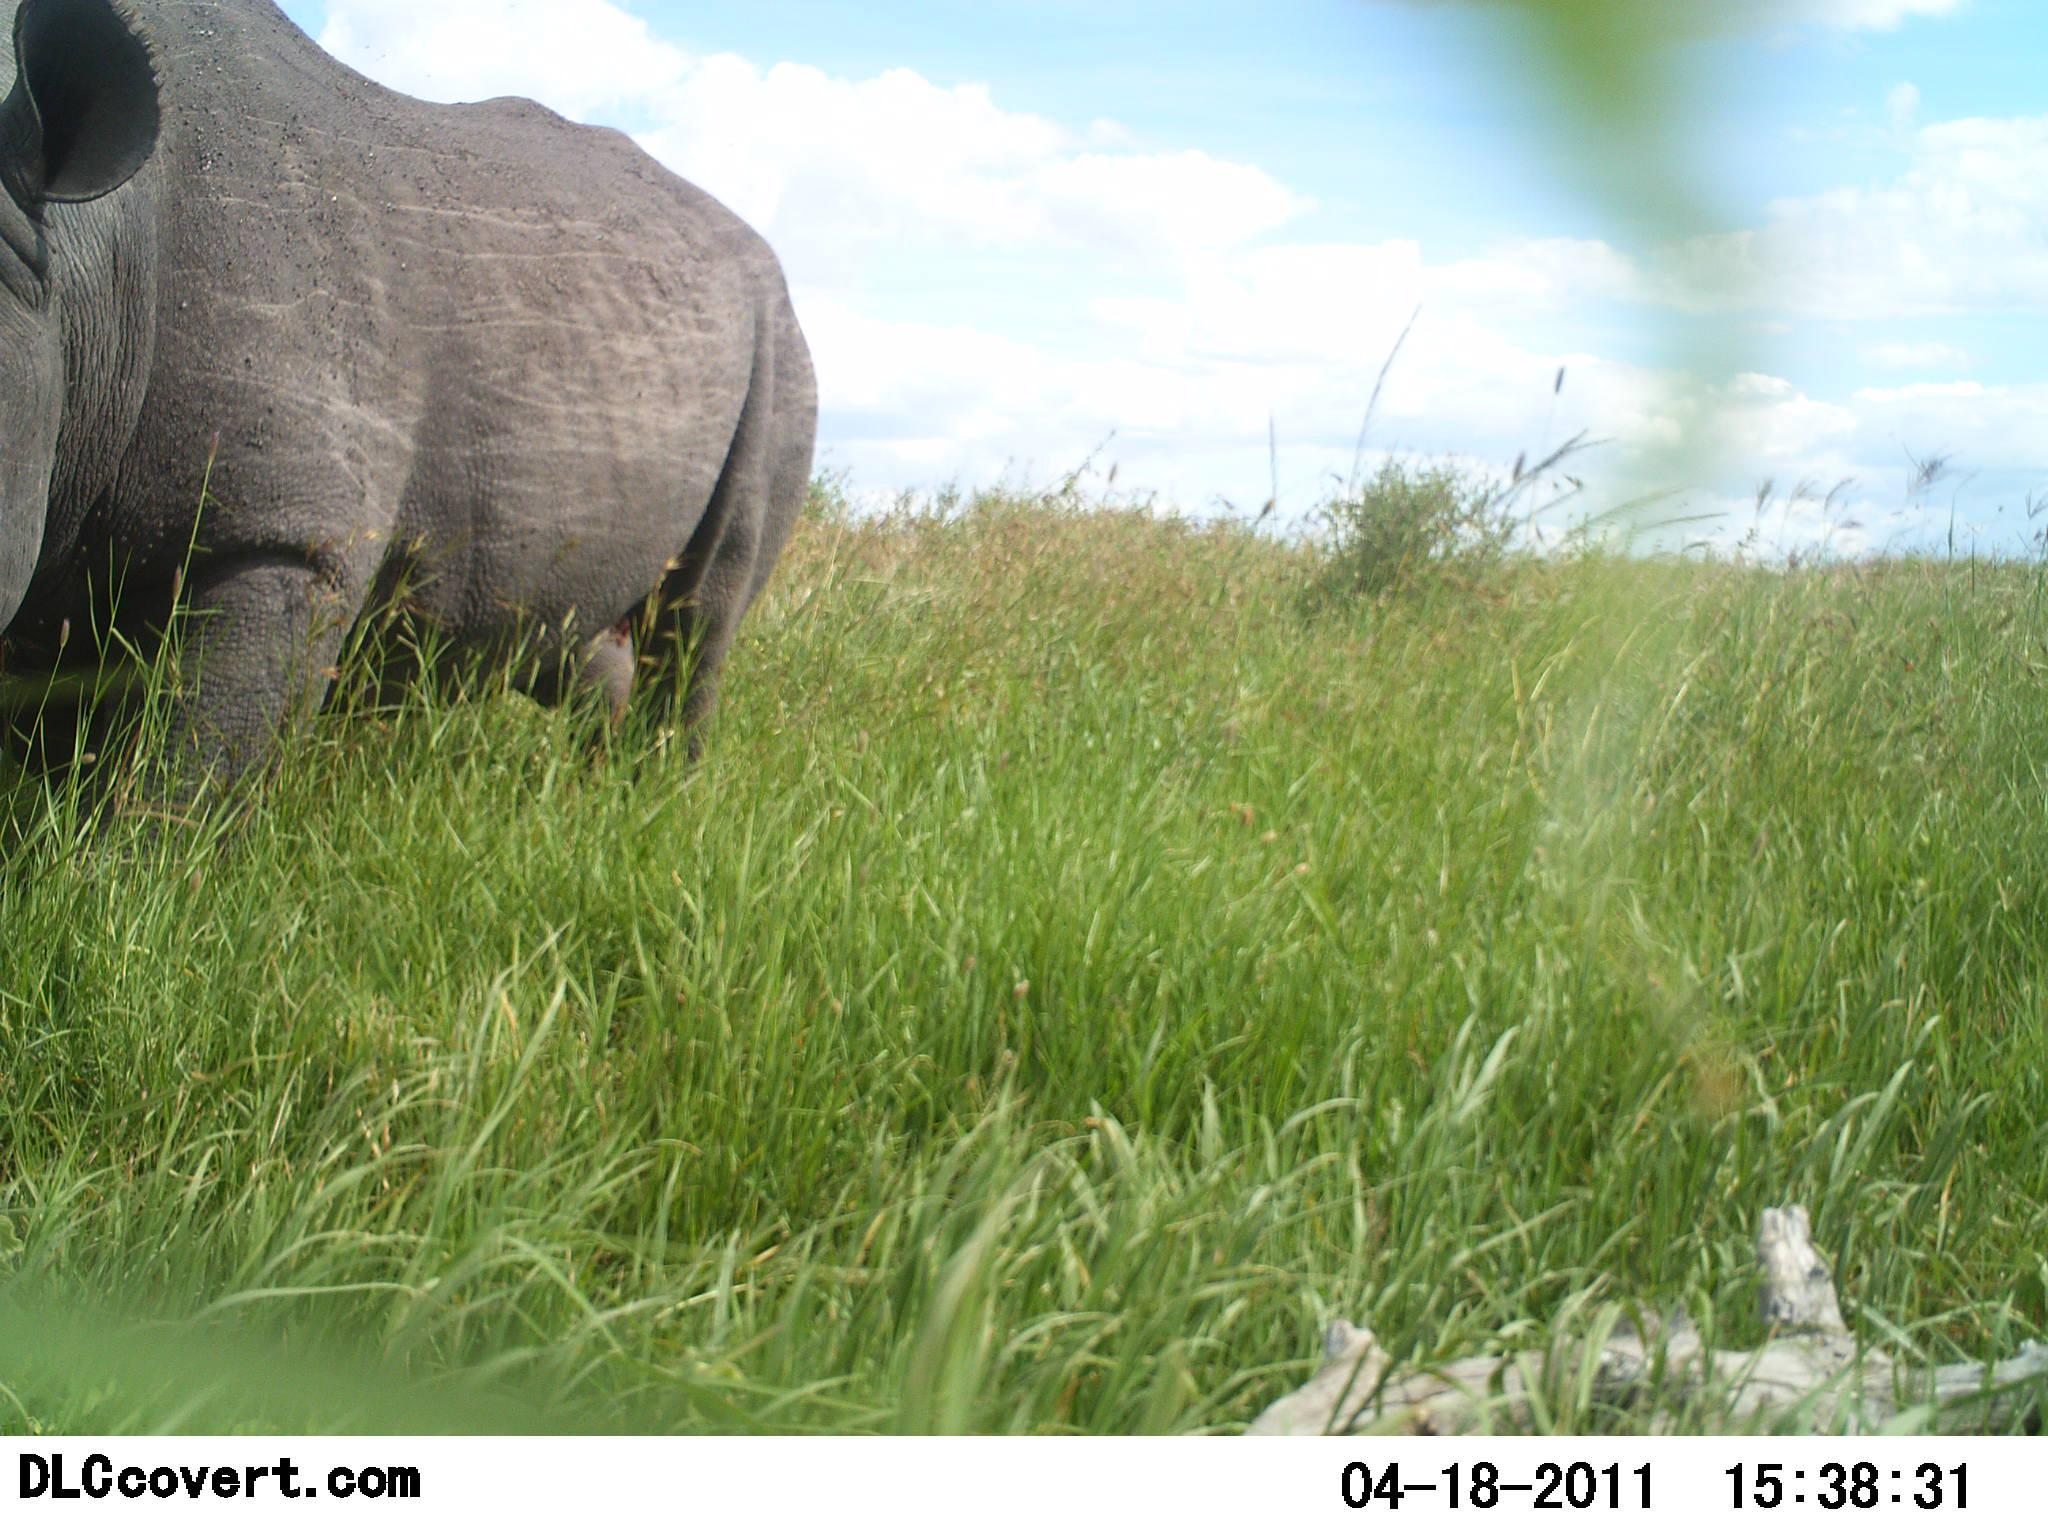rhinoceros: (0, 0, 855, 868)
